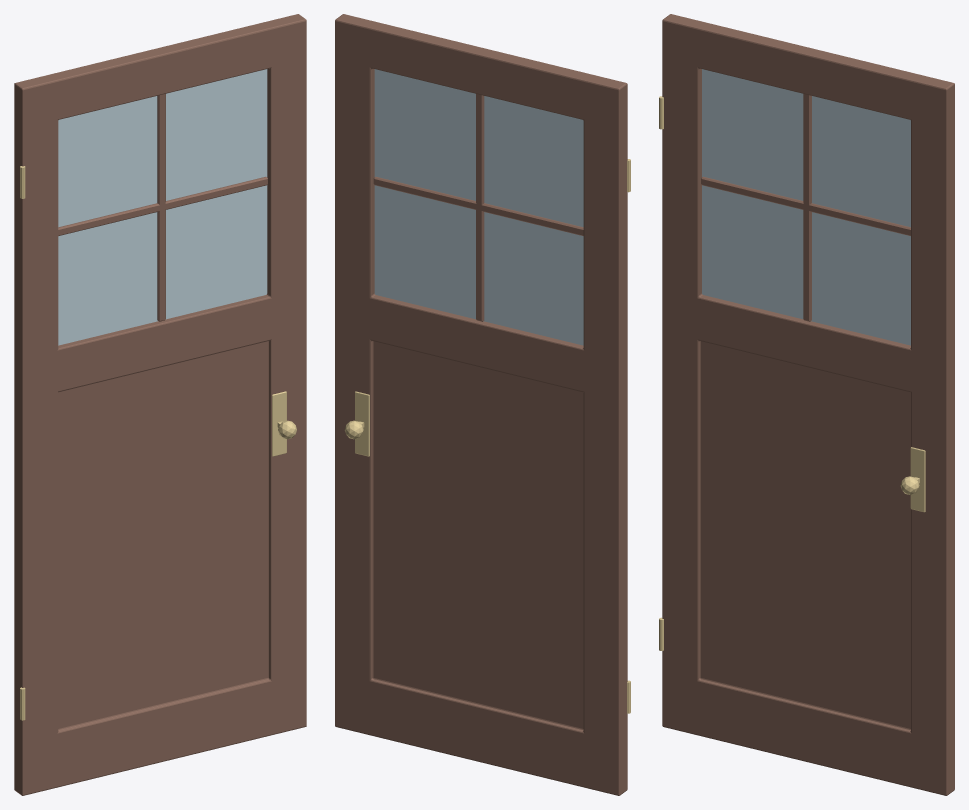
The model's file is door_leaf_front.glb.
3 views of the same model, side by side, from view 1: azimuth 30°, elevation 25°; view 2: azimuth 150°, elevation 25°; view 3: azimuth 330°, elevation 25° (orthographic).
Visible parts, largest first — view 1: door_leaf_front_door, door_leaf_front_glass, door_leaf_front_brass; view 2: door_leaf_front_door, door_leaf_front_glass, door_leaf_front_brass; view 3: door_leaf_front_door, door_leaf_front_glass, door_leaf_front_brass.
Boxes of the visible parts, x1,y1,x2,y2 form: door_leaf_front_door: (14, 14, 306, 795); door_leaf_front_glass: (58, 69, 267, 345); door_leaf_front_brass: (20, 166, 296, 720); door_leaf_front_door: (335, 14, 627, 795); door_leaf_front_glass: (374, 69, 583, 345); door_leaf_front_brass: (344, 159, 630, 713); door_leaf_front_door: (662, 14, 954, 795); door_leaf_front_glass: (702, 69, 910, 345); door_leaf_front_brass: (659, 96, 925, 650).
Bounding box in the file's own units: 0.968 × 2.28 × 0.206.
